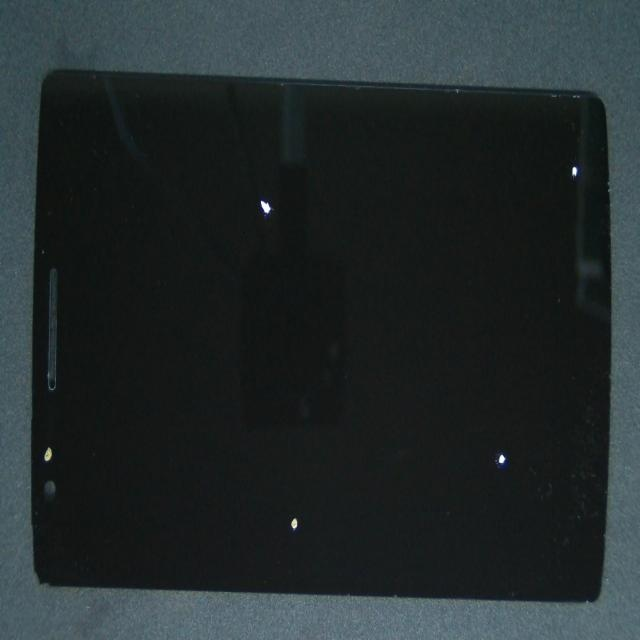stain: (278, 192, 640, 640), (131, 270, 437, 640), (279, 71, 640, 268), (97, 99, 379, 336), (32, 264, 97, 640)
